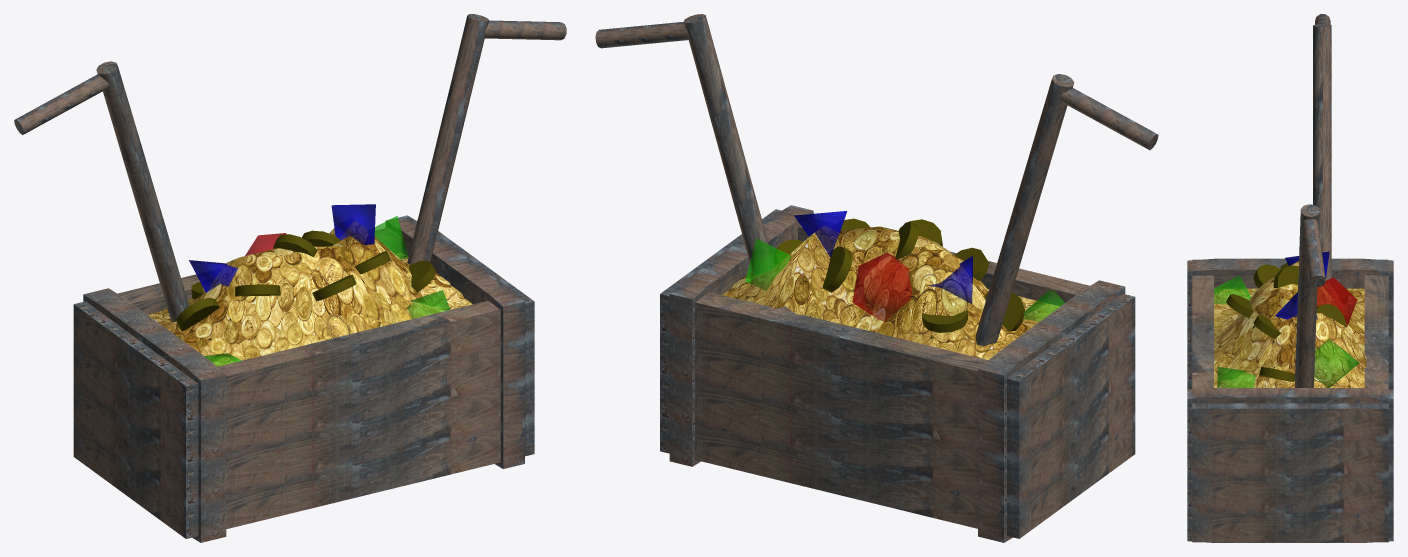
File: Treasure.FBX
3 views of the same model, side by side, from view 1: azimuth 30°, elevation 25°; view 2: azimuth 150°, elevation 25°; view 3: azimuth 270°, elevation 25° (orthographic). The views are drawn at different scales.
Parts seen in each view (by area): view 1: Box001, Plane001, Cylinder012, Cylinder009, Cylinder010, Gem003, Cylinder011, Gem004, Gem, Cylinder008, Gem002; view 2: Box001, Plane001, Cylinder009, Cylinder012, Gem005, Cylinder010, Cylinder011, Gem, Gem003, Gem004, Cylinder005, Cylinder004 (+1 smaller); view 3: Box001, Plane001, Cylinder009, Cylinder012, Gem, Cylinder011, Gem005, Gem002, Gem001, Cylinder006, Cylinder003, Cylinder001 (+4 smaller).
Boxes of the visible parts, <box> form: Box001: <box>73,215,534,542</box>; Plane001: <box>148,220,472,366</box>; Cylinder012: <box>407,14,488,264</box>; Cylinder009: <box>96,61,189,321</box>; Cylinder010: <box>14,74,108,134</box>; Gem003: <box>331,204,375,244</box>; Cylinder011: <box>484,20,566,40</box>; Gem004: <box>189,260,237,292</box>; Gem: <box>374,215,407,259</box>; Cylinder008: <box>176,297,219,331</box>; Gem002: <box>407,290,450,318</box>; Box001: <box>660,205,1135,542</box>; Plane001: <box>722,226,1060,359</box>; Cylinder009: <box>975,74,1074,346</box>; Cylinder012: <box>684,14,786,310</box>; Gem005: <box>852,252,912,320</box>; Cylinder010: <box>1060,87,1158,150</box>; Cylinder011: <box>595,22,688,48</box>; Gem: <box>745,238,791,290</box>; Gem003: <box>794,211,847,257</box>; Gem004: <box>928,256,972,304</box>; Cylinder005: <box>822,246,852,292</box>; Cylinder004: <box>922,310,968,332</box>; Box001: <box>1187,258,1393,542</box>; Plane001: <box>1214,261,1366,387</box>; Cylinder009: <box>1313,24,1331,281</box>; Cylinder012: <box>1295,204,1319,387</box>; Gem: <box>1314,339,1359,387</box>; Cylinder011: <box>1302,219,1325,286</box>; Gem005: <box>1316,277,1357,327</box>; Gem002: <box>1217,367,1255,387</box>; Gem001: <box>1214,275,1250,304</box>; Cylinder006: <box>1273,265,1298,287</box>; Cylinder003: <box>1226,294,1253,317</box>; Cylinder001: <box>1253,264,1280,288</box>.
Size of the model in its own units: 66.03 by 49.61 by 24.75.
6 materials, 2 textured.
